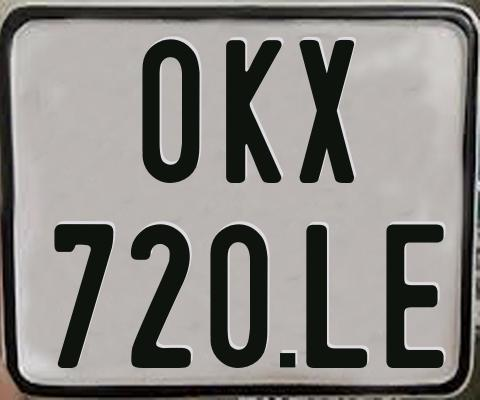0: (139, 37, 201, 185), (208, 222, 269, 367)
2: (131, 222, 197, 371)
7: (52, 223, 115, 372)
E: (385, 222, 446, 368)
K: (225, 38, 286, 187)
L: (304, 225, 369, 373)
X: (296, 39, 355, 183)
